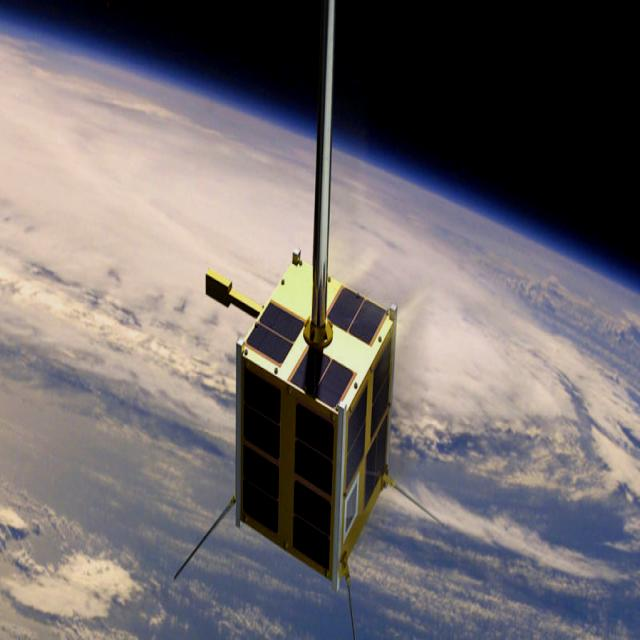satellite: (198, 224, 410, 585)
